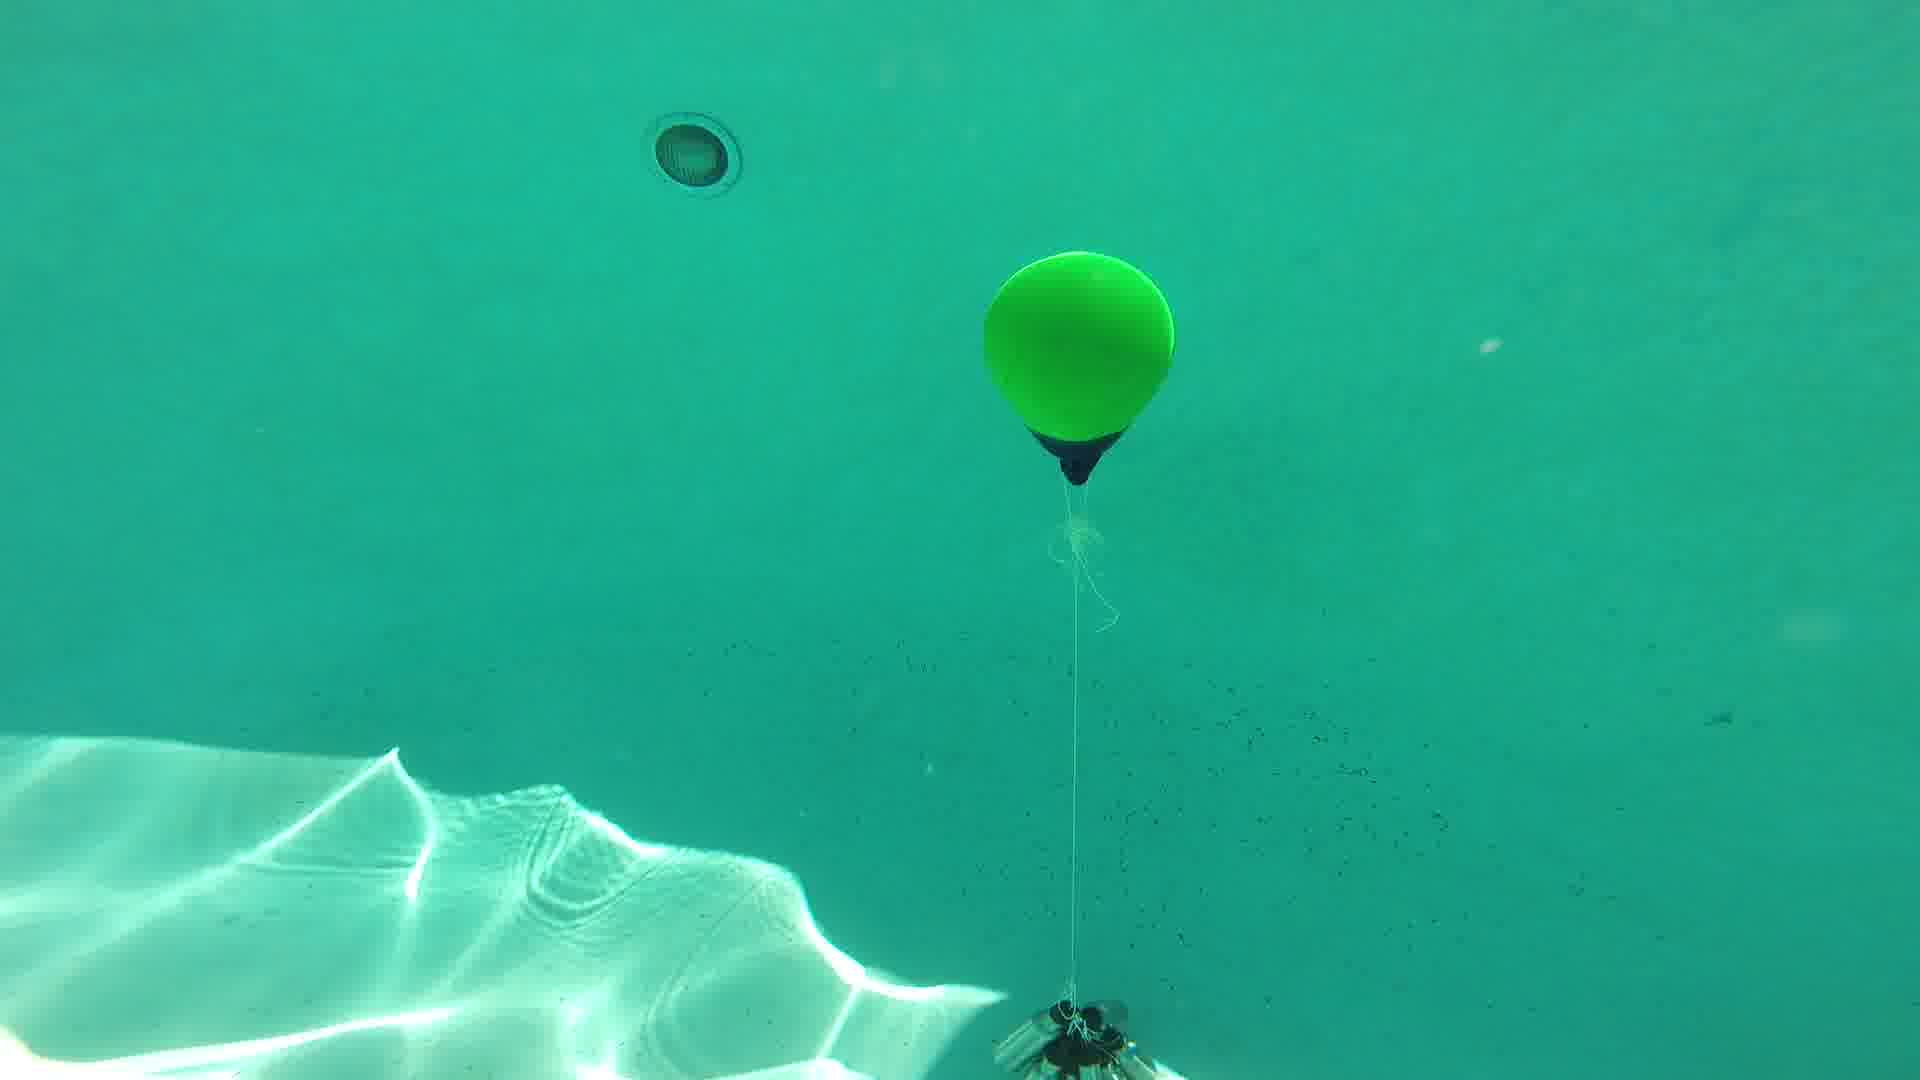yellow_buoy: (982, 249, 1174, 485)
